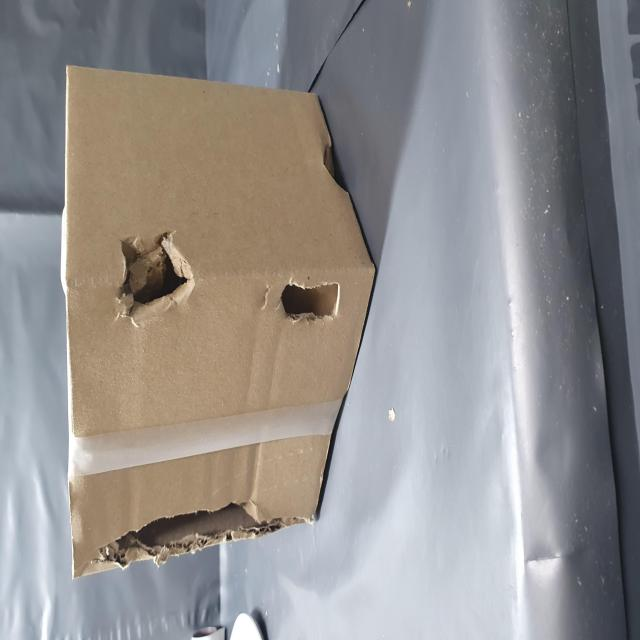damaged: (40, 144, 84, 531), (169, 206, 233, 343), (163, 488, 203, 608), (250, 567, 283, 620)
